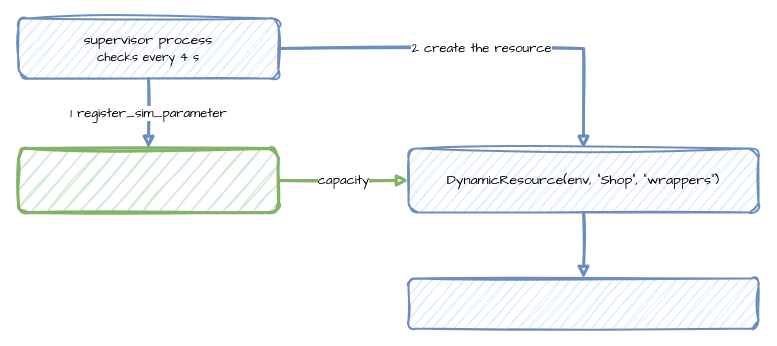
Some shapes in this 777 by 346 pixel diagram are drawn without their labels. The box of each missing label's shape, as (x1, y1, x2, y2) in pixels:
new workers request the wrappers: (407, 277, 759, 329)
registry new Shop.resources.wrappers paths: (16, 146, 280, 214)
